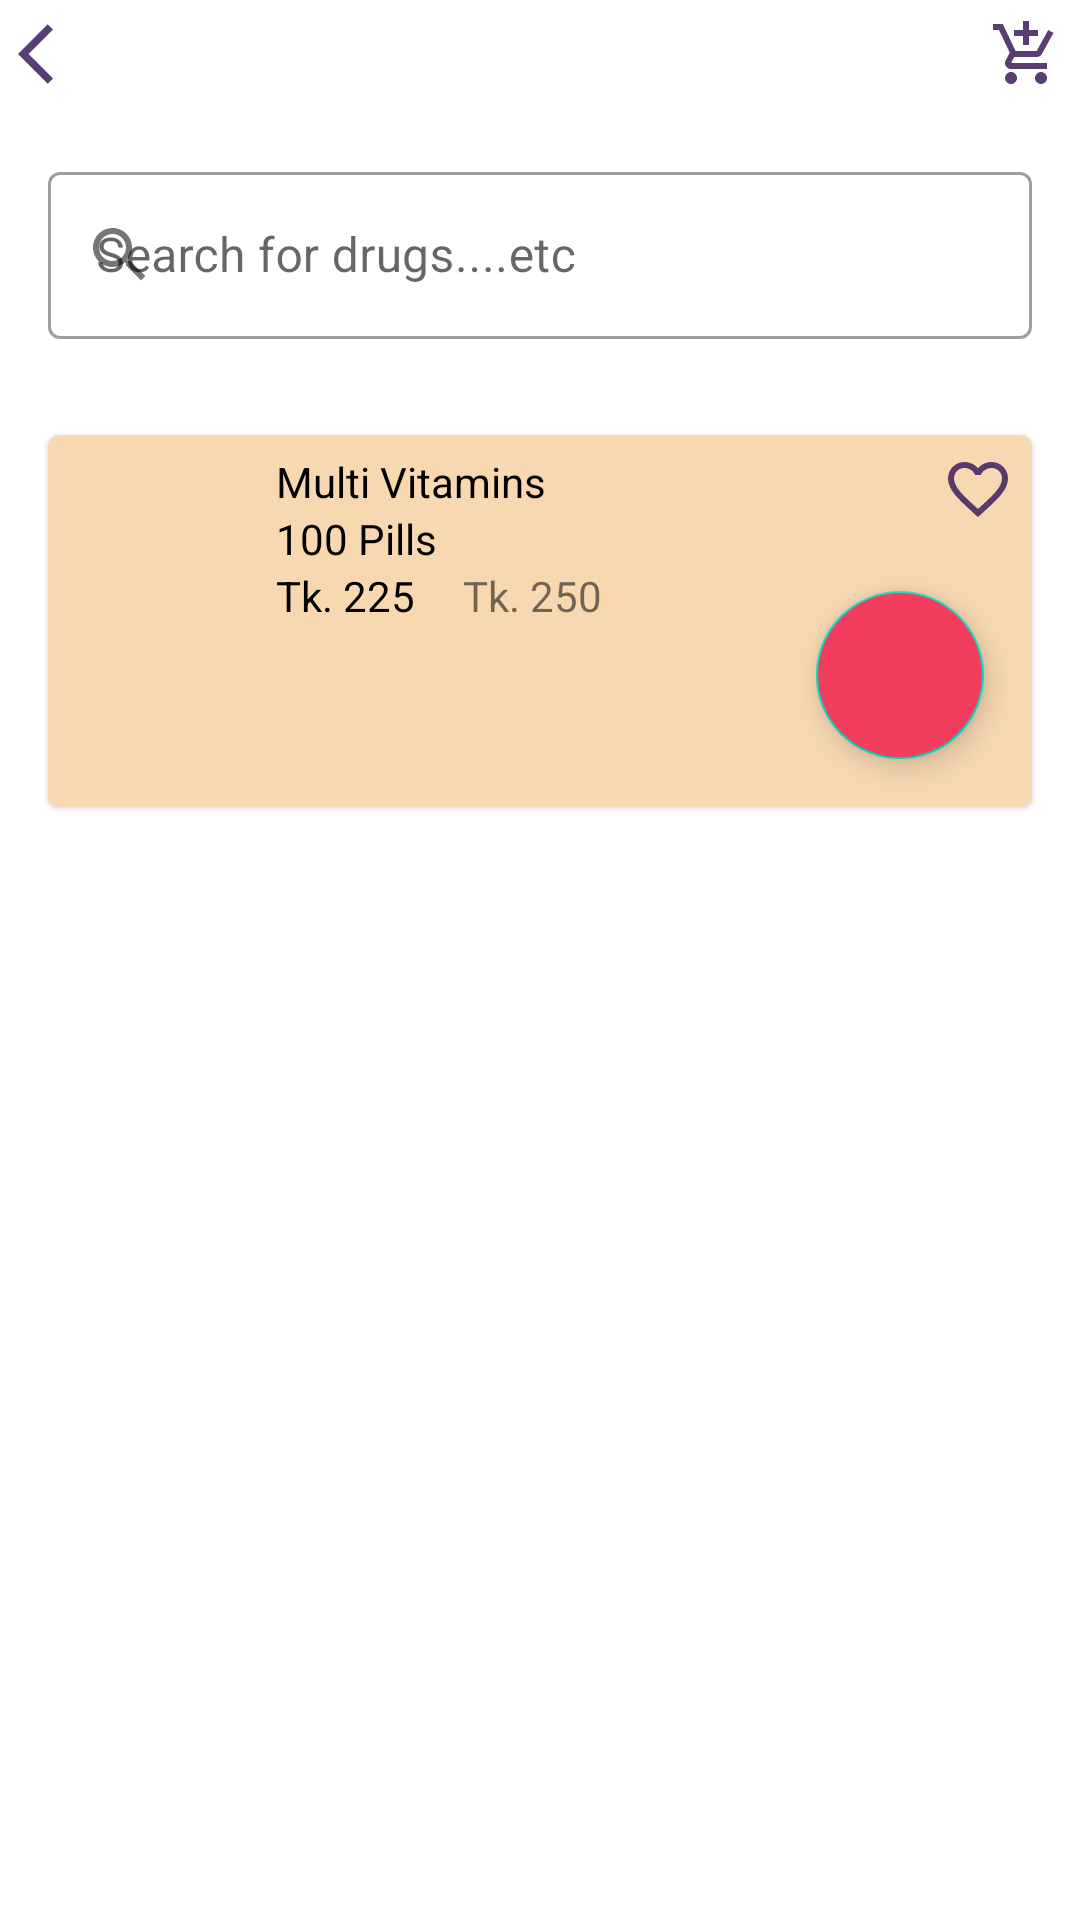

Where icons sit on this 1080px×1920px app screen, as [x1,y1,x2,y2]:
add shopping cart: [993,21,1053,84]
arrow back: [18,24,53,84]
favorite border: [948,462,1008,517]
